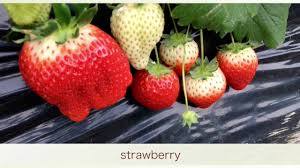ripe: (13, 15, 138, 122), (135, 63, 182, 117)
unripe: (111, 5, 169, 71), (180, 61, 230, 116), (219, 39, 262, 96), (160, 31, 201, 74)
